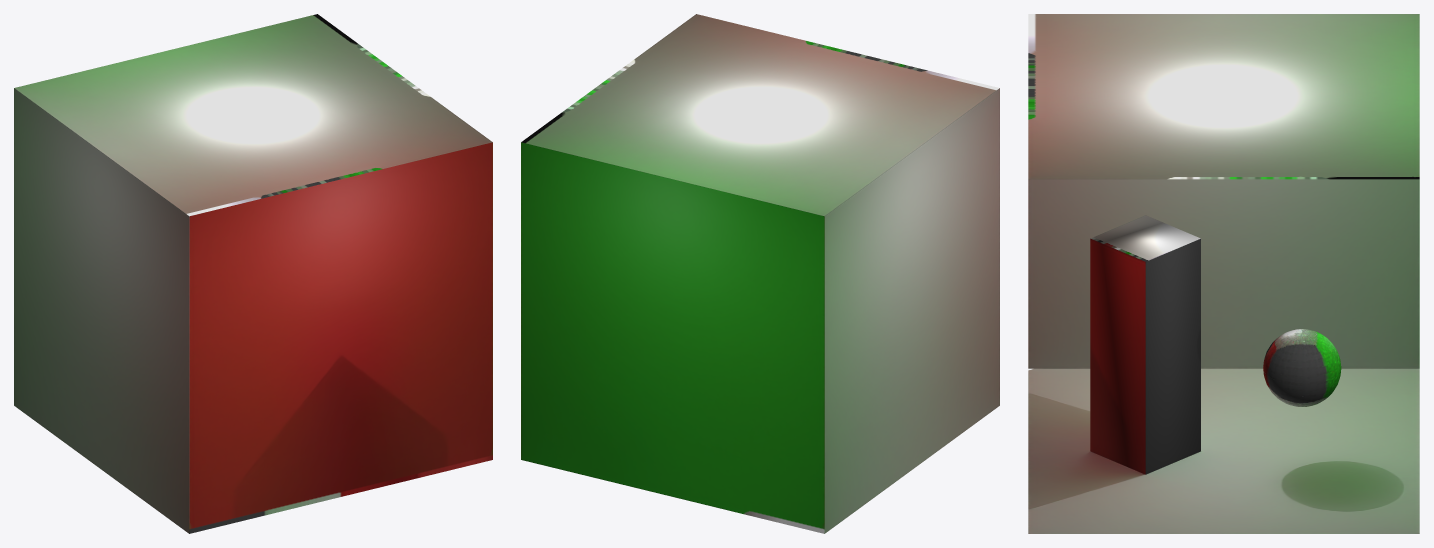
File: BakedCornellbox.gltf
The picture shows the model from 3 angles, left to right: view 1: azimuth 30°, elevation 25°; view 2: azimuth 150°, elevation 25°; view 3: azimuth 270°, elevation 25°; orthographic projection. The views are drawn at different scales.
Parts seen in each view (by area): view 1: Cube; view 2: Cube; view 3: Cube, Cube.001, Sphere.
Part boxes in pixels (bbox=[...]): Cube: bbox=[14, 14, 492, 533]; Cube: bbox=[521, 14, 999, 533]; Cube: bbox=[1028, 14, 1419, 533]; Cube.001: bbox=[1090, 215, 1200, 474]; Sphere: bbox=[1263, 329, 1341, 406].
Size of the model in its own units: 10 by 10 by 10.
Materials: 1 (1 with a texture image).
